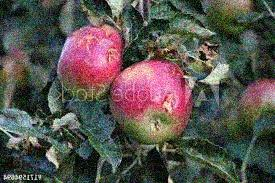rotten apple: (109, 60, 195, 145), (51, 21, 123, 98)
